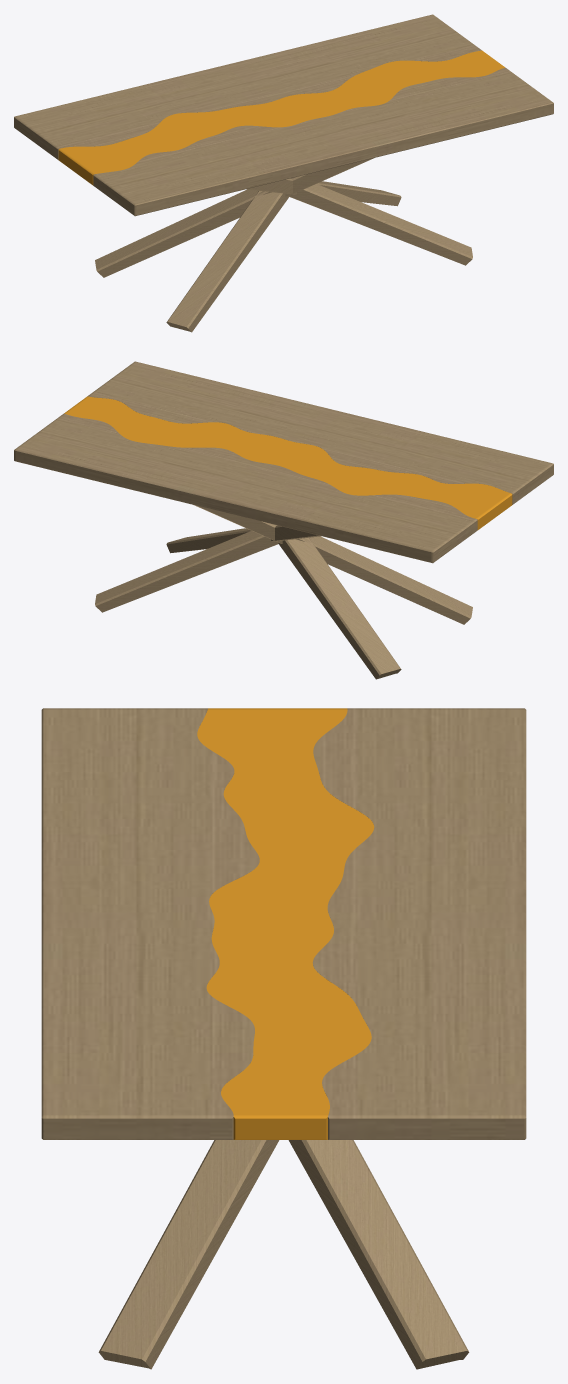
Rendered from rectangular-ash-epoxy-amber.glb.
3 renders of one model, top to bottom at view 1: azimuth 30°, elevation 25°; view 2: azimuth 150°, elevation 25°; view 3: azimuth 270°, elevation 25°, orthographic. The views are drawn at different scales.
Visible parts, largest first — view 1: Wood_Rectangular_EpoxyFar, Wood_Rectangular_EpoxyNear, Base_target, Resin_Rectangular; view 2: Wood_Rectangular_EpoxyNear, Wood_Rectangular_EpoxyFar, Base_target, Resin_Rectangular; view 3: Wood_Rectangular_EpoxyNear, Wood_Rectangular_EpoxyFar, Resin_Rectangular, Base_target.
Part boxes in pixels (x1=…): Wood_Rectangular_EpoxyFar: x1=93, y1=67, x2=553, y2=216; Wood_Rectangular_EpoxyNear: x1=14, y1=14, x2=481, y2=159; Base_target: x1=95, y1=158, x2=472, y2=332; Resin_Rectangular: x1=58, y1=50, x2=504, y2=185; Wood_Rectangular_EpoxyNear: x1=14, y1=413, x2=477, y2=563; Wood_Rectangular_EpoxyFar: x1=88, y1=361, x2=553, y2=504; Base_target: x1=95, y1=505, x2=472, y2=679; Resin_Rectangular: x1=64, y1=396, x2=512, y2=529; Wood_Rectangular_EpoxyNear: x1=312, y1=708, x2=526, y2=1139; Wood_Rectangular_EpoxyFar: x1=41, y1=708, x2=259, y2=1139; Resin_Rectangular: x1=197, y1=708, x2=374, y2=1139; Base_target: x1=98, y1=1140, x2=469, y2=1369.
Bounding box in the file's own units: 2.13 × 0.762 × 1.07.
Materials: 2 (1 with a texture image).
